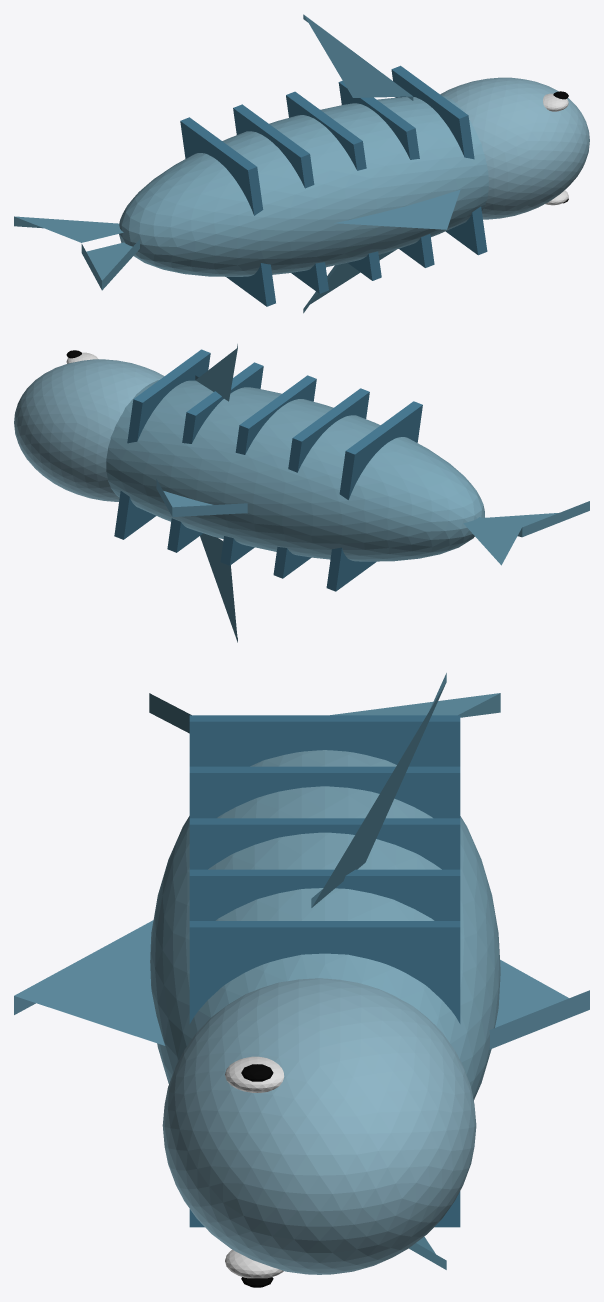
File: pez_vertebrado.glb
3 renders of one model, top to bottom at view 1: azimuth 30°, elevation 25°; view 2: azimuth 150°, elevation 25°; view 3: azimuth 270°, elevation 25°, orthographic. The views are drawn at different scales.
Parts seen in each view (by area): view 1: Cuerpo pez vertebrado, Cabeza pez, Franja azul del pez, Franja azul del pez_4, Aleta pectoral izquierda, Franja azul del pez_1, Aleta dorsal, Franja azul del pez_2, Franja azul del pez_3, Aleta caudal_1, Aleta caudal, Aleta pectoral derecha; view 2: Cuerpo pez vertebrado, Cabeza pez, Franja azul del pez, Franja azul del pez_4, Franja azul del pez_1, Franja azul del pez_3, Franja azul del pez_2, Aleta caudal_1, Aleta pectoral derecha, Aleta inferior, Aleta caudal, Aleta pectoral izquierda; view 3: Cabeza pez, Cuerpo pez vertebrado, Franja azul del pez_4, Franja azul del pez, Franja azul del pez_1, Franja azul del pez_3, Aleta dorsal, Franja azul del pez_2, Aleta inferior, Aleta pectoral izquierda, Aleta caudal_1, Ojo izquierdo (+2 smaller).
Part boxes in pixels (left/top/right/bottom): Cuerpo pez vertebrado: left=119, top=96, right=488, bottom=276; Cabeza pez: left=440, top=77, right=589, bottom=219; Franja azul del pez: left=180, top=117, right=275, bottom=306; Franja azul del pez_4: left=391, top=65, right=487, bottom=255; Aleta pectoral izquierda: left=303, top=14, right=413, bottom=100; Franja azul del pez_1: left=233, top=104, right=328, bottom=293; Aleta dorsal: left=334, top=189, right=460, bottom=229; Franja azul del pez_2: left=286, top=91, right=381, bottom=280; Franja azul del pez_3: left=338, top=81, right=434, bottom=267; Aleta caudal_1: left=14, top=216, right=123, bottom=242; Aleta caudal: left=81, top=239, right=139, bottom=290; Aleta pectoral derecha: left=303, top=249, right=396, bottom=313; Cuerpo pez vertebrado: left=106, top=380, right=484, bottom=561; Cabeza pez: left=14, top=359, right=164, bottom=501; Franja azul del pez: left=326, top=401, right=422, bottom=591; Franja azul del pez_4: left=114, top=349, right=210, bottom=539; Franja azul del pez_1: left=273, top=388, right=369, bottom=578; Franja azul del pez_3: left=167, top=362, right=263, bottom=552; Franja azul del pez_2: left=220, top=375, right=316, bottom=565; Aleta caudal_1: left=463, top=517, right=521, bottom=565; Aleta pectoral derecha: left=200, top=533, right=237, bottom=642; Aleta inferior: left=156, top=479, right=247, bottom=516; Aleta caudal: left=485, top=501, right=589, bottom=537; Aleta pectoral izquierda: left=195, top=344, right=237, bottom=401; Cabeza pez: left=162, top=978, right=476, bottom=1274; Cuerpo pez vertebrado: left=150, top=750, right=500, bottom=1100; Franja azul del pez_4: left=189, top=921, right=460, bottom=1227; Franja azul del pez: left=189, top=715, right=460, bottom=766; Franja azul del pez_1: left=189, top=766, right=460, bottom=818; Franja azul del pez_3: left=189, top=869, right=460, bottom=920; Aleta dorsal: left=14, top=920, right=165, bottom=1045; Franja azul del pez_2: left=189, top=818, right=460, bottom=869; Aleta inferior: left=489, top=959, right=589, bottom=1049; Aleta pectoral izquierda: left=311, top=673, right=446, bottom=907; Aleta caudal_1: left=330, top=693, right=500, bottom=717; Ojo izquierdo: left=225, top=1056, right=284, bottom=1092.
Bounding box in the file's own units: 4.45 × 2.44 × 2.13.
